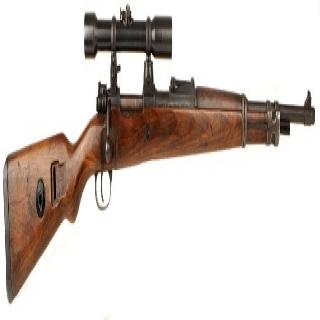gun: (2, 13, 316, 285)
